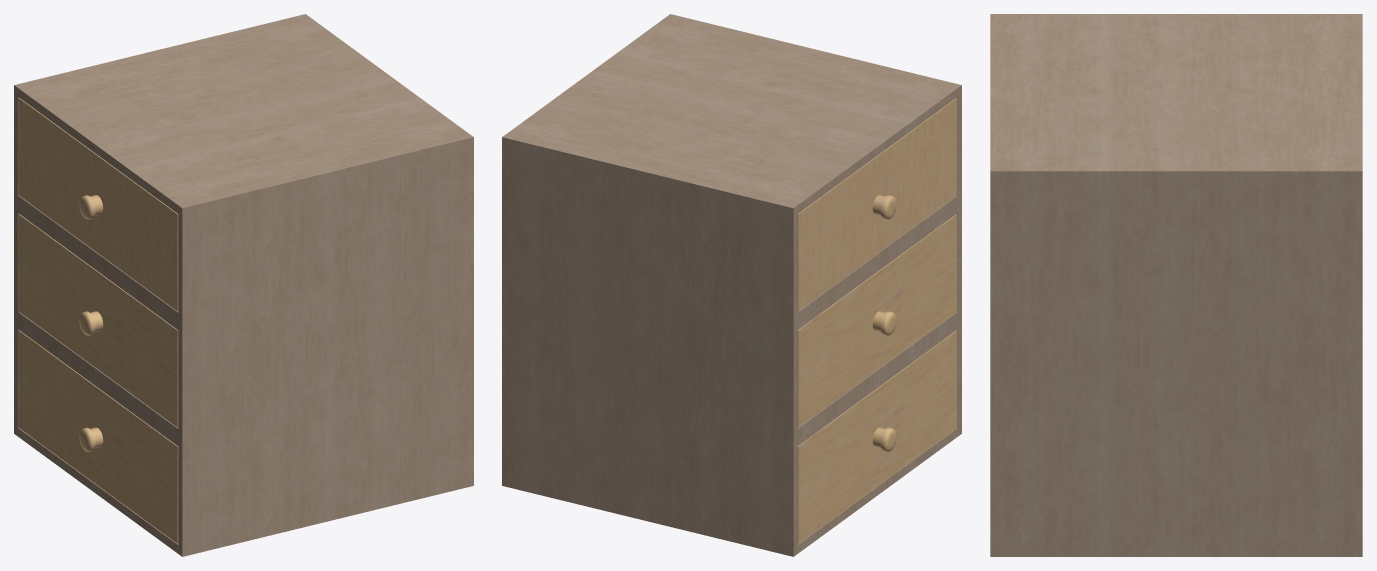
The model's file is nightstand.glb.
3 views of the same model, side by side, from view 1: azimuth 30°, elevation 25°; view 2: azimuth 150°, elevation 25°; view 3: azimuth 270°, elevation 25° (orthographic). The views are drawn at different scales.
Visible parts, largest first — view 1: nightstand, latch_1, latch_2, latch_3; view 2: nightstand, latch_1, latch_2, latch_3; view 3: nightstand.
Part boxes in pixels (x1,y1,x2,y2): nightstand: [14, 14, 473, 556]; latch_1: [18, 98, 178, 311]; latch_2: [18, 214, 178, 427]; latch_3: [18, 330, 178, 543]; nightstand: [502, 14, 961, 556]; latch_1: [797, 98, 957, 311]; latch_2: [797, 214, 957, 427]; latch_3: [797, 330, 957, 543]; nightstand: [990, 14, 1362, 556].
Size of the model in its own units: 0.7351 by 0.8 by 0.7.
1 material, 1 textured.
